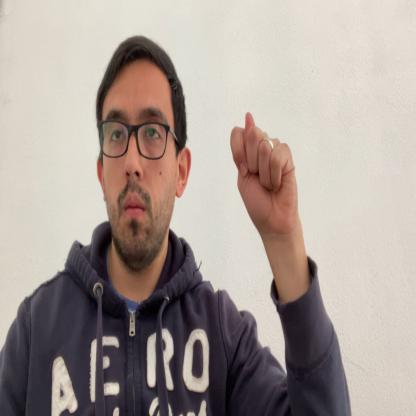T: (230, 110, 297, 238)
